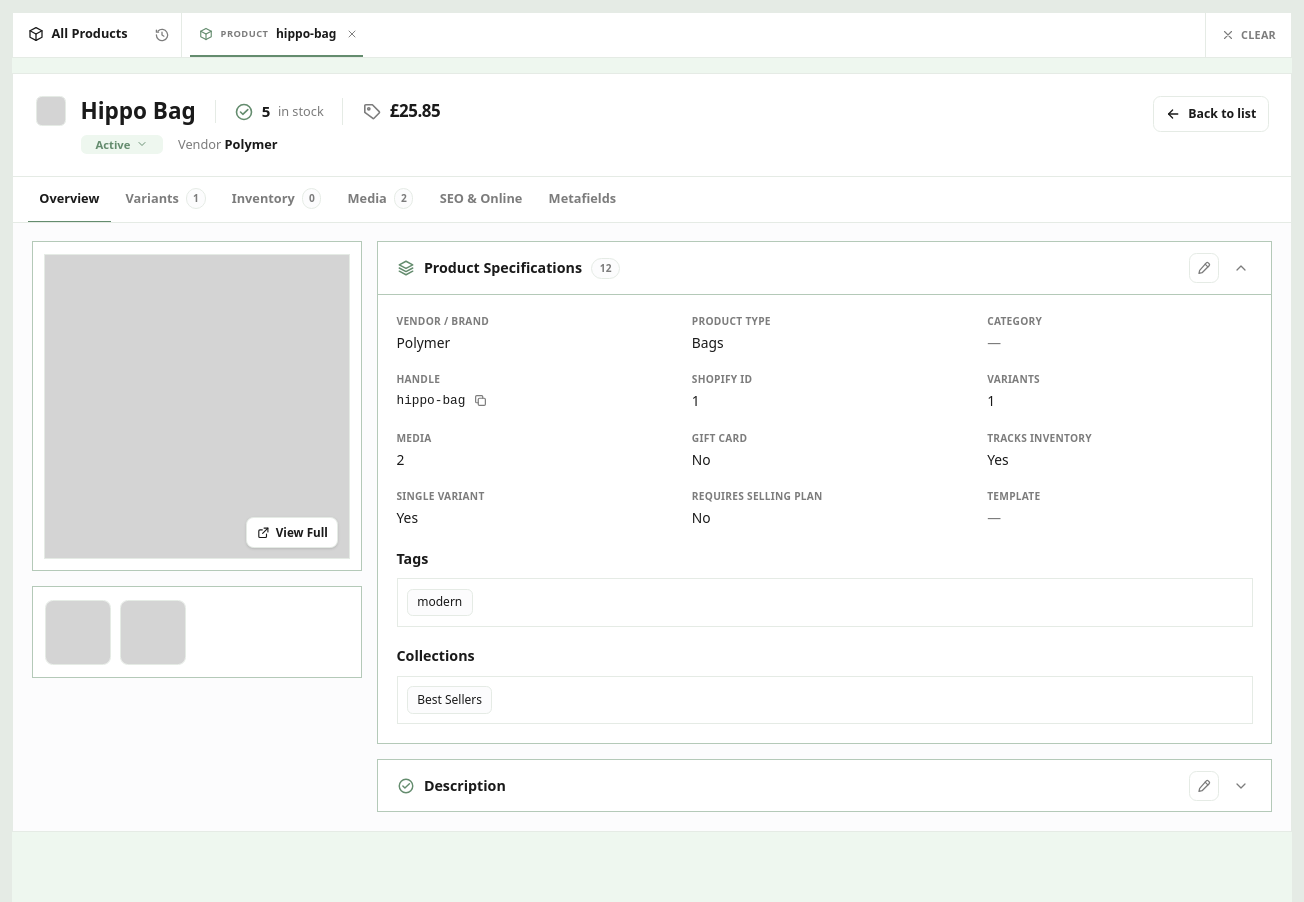
editing a section in place › gives every section its own pencil, and opens no dialog
This screenshot has width=1304, height=902.
Expected: the heading "Hippo Bag" is shown, [80,96,196,127]
Click the button named "Edit specifications". click: (1204, 268)
box: [1189,253,1219,283]
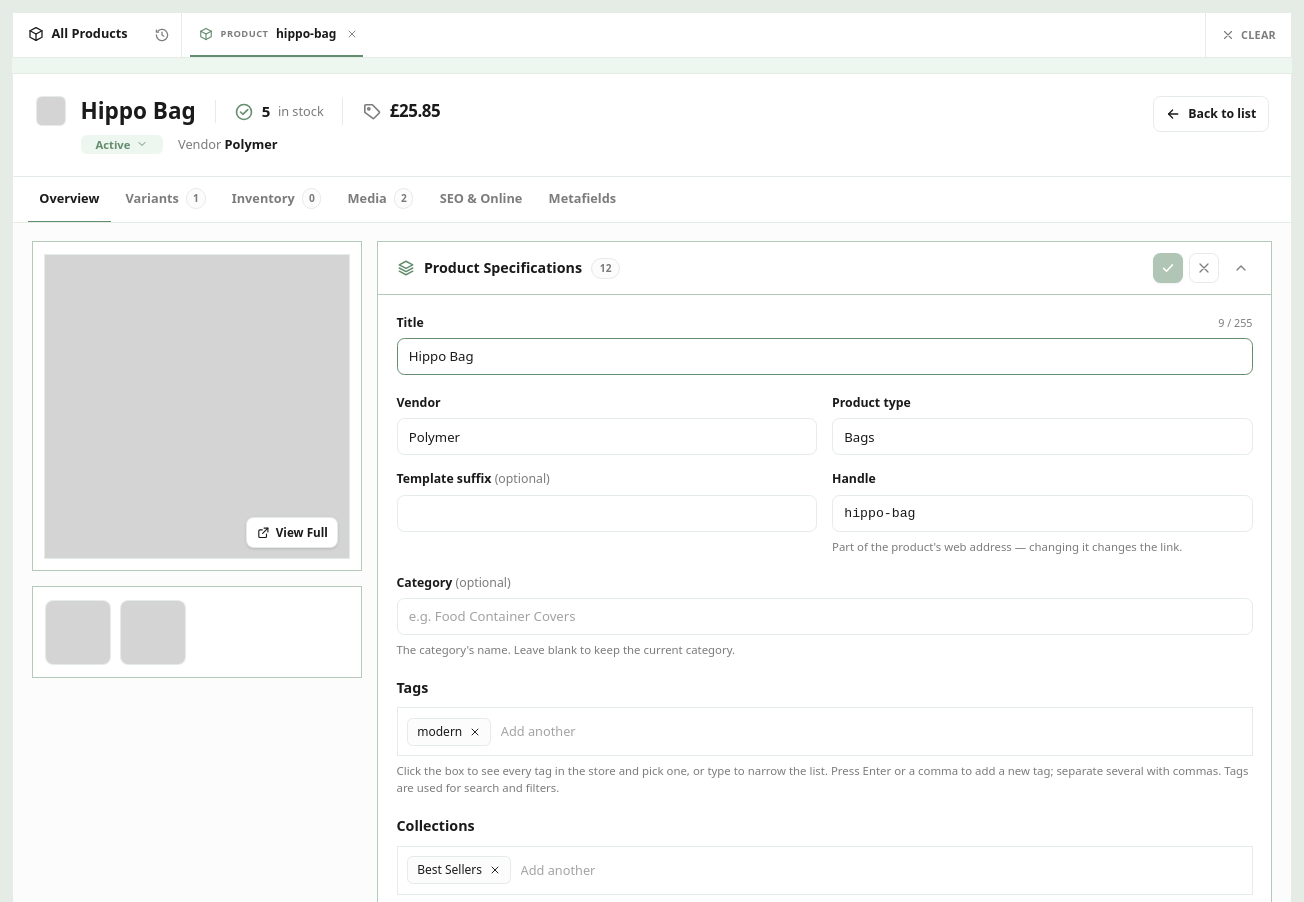
Result: the field labelled "Title" holds "Hippo Bag" at [396,338,1252,375]
